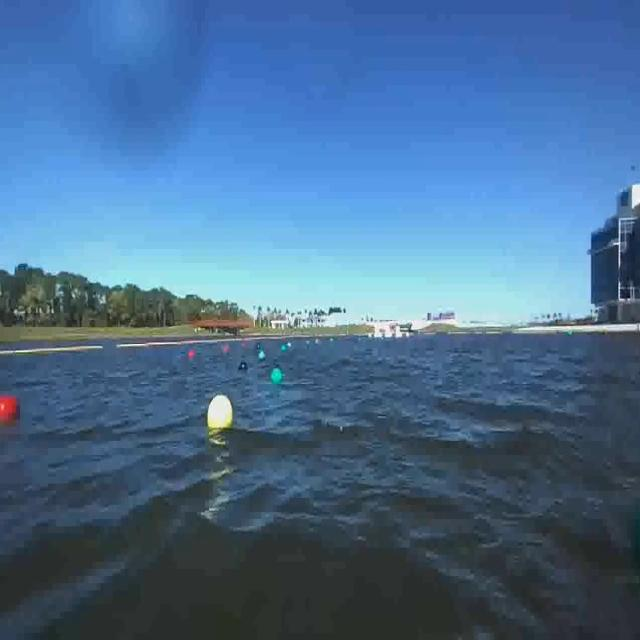black-buoy: (240, 360, 248, 371)
green-buoy: (272, 368, 284, 386)
red-buoy: (0, 397, 19, 428)
yellow-buoy: (206, 396, 234, 431)
